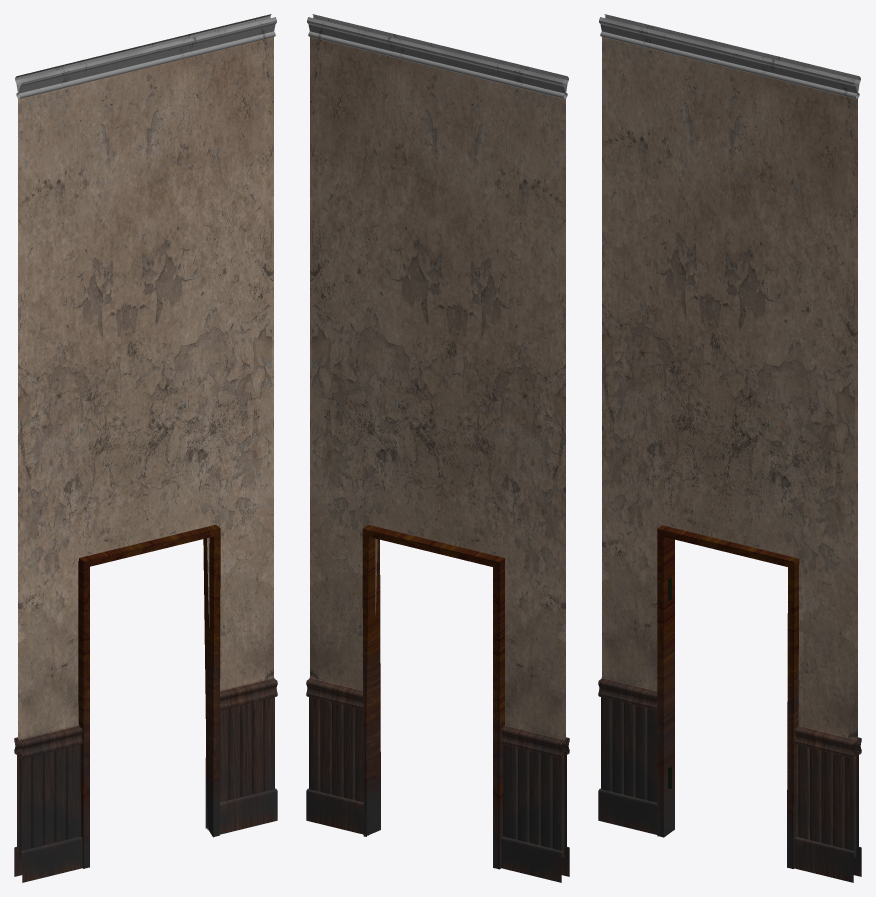
Rendered from Mod_Wall_2x6_Door_A.fbx.
The picture shows the model from 3 angles, left to right: view 1: azimuth 30°, elevation 25°; view 2: azimuth 150°, elevation 25°; view 3: azimuth 330°, elevation 25°; orthographic projection.
Parts seen in each view (by area): view 1: polySurface3679; view 2: polySurface3679; view 3: polySurface3679.
Part boxes in pixels (x1,y1,x2,y2): polySurface3679: [14, 14, 277, 882]; polySurface3679: [306, 14, 569, 882]; polySurface3679: [598, 14, 861, 882].
Bounding box in the file's own units: 200 × 600 × 15.
Materials: 1 (1 with a texture image).
